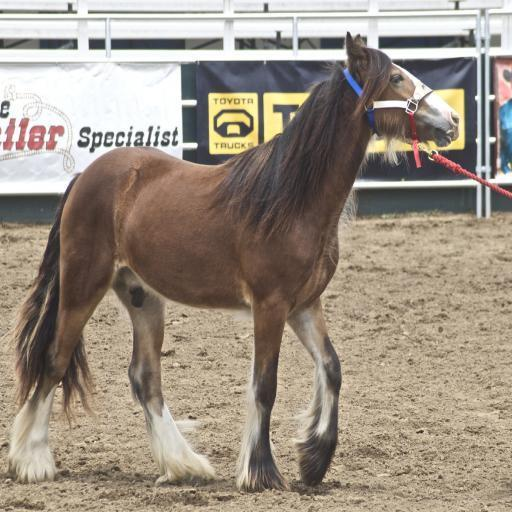horse: (6, 30, 460, 492)
